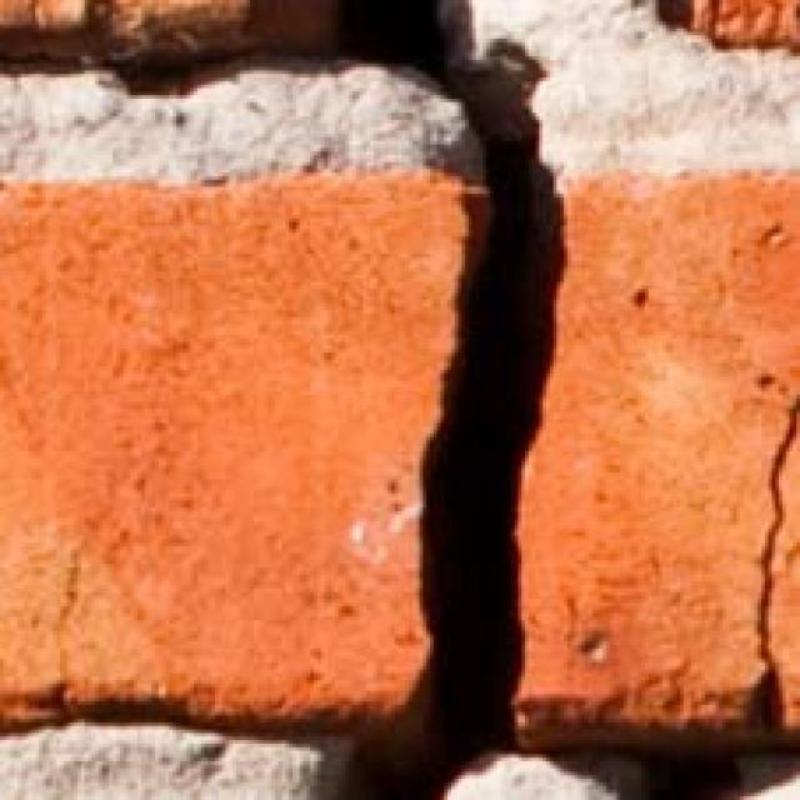pothole: (339, 0, 562, 800), (755, 382, 800, 698)
